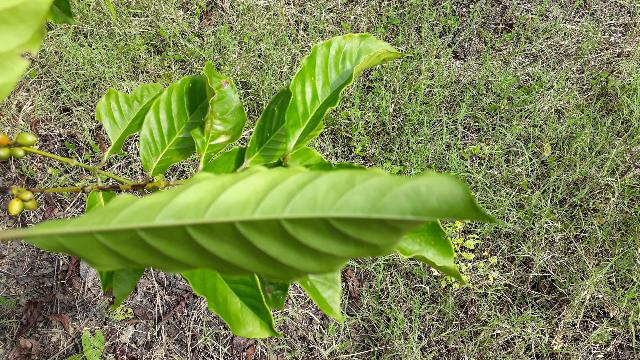healthy: (26, 166, 502, 285)
